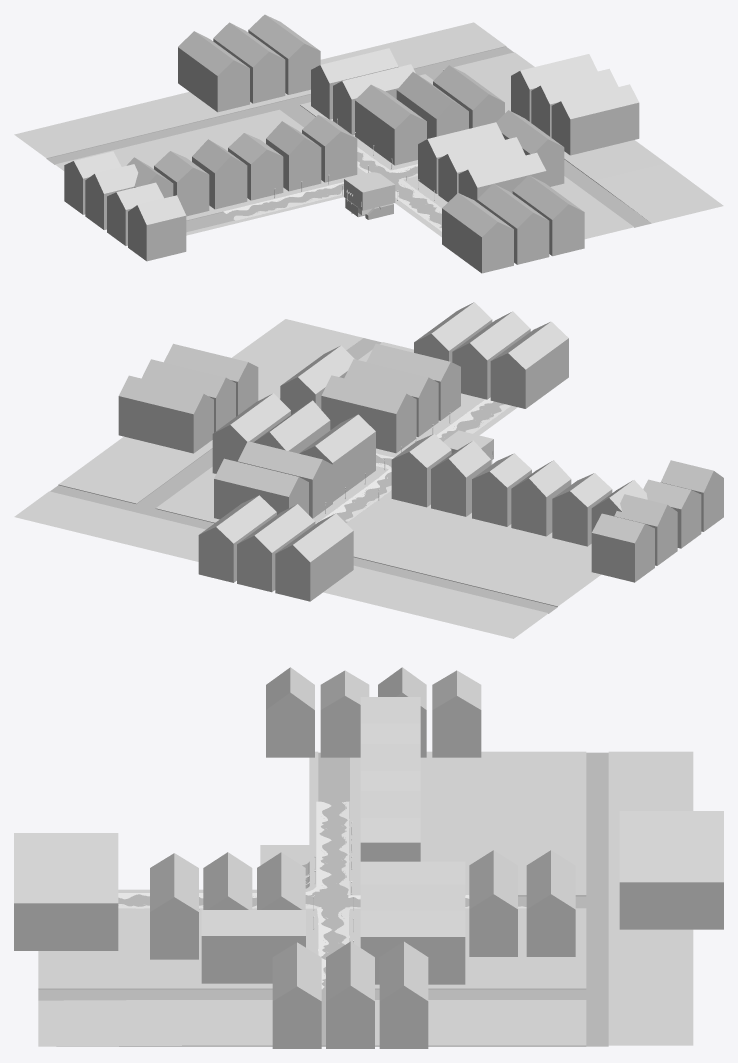
The model's file is env_Cafe.fbx.
3 views of the same model, one above another, from view 1: azimuth 30°, elevation 25°; view 2: azimuth 150°, elevation 25°; view 3: azimuth 270°, elevation 25° (orthographic). The views are drawn at different scales.
Visible parts, largest first — view 1: Plane, env_BuildingBG, env_BuildingBG.012, env_BuildingBG.027, env_BuildingBG.003, env_BuildingBG.024, env_BuildingBG.026, env_BuildingBG.013, env_BuildingBG.025, env_BuildingBG.014, env_BuildingBG.004, env_BuildingBG.002 (+20 smaller); view 2: Plane, env_BuildingBG.015, env_BuildingBG.012, env_BuildingBG.027, env_BuildingBG.006, env_BuildingBG.010, env_BuildingBG.021, env_BuildingBG.013, env_BuildingBG.003, env_BuildingBG.014, env_BuildingBG.026, env_BuildingBG.018 (+19 smaller); view 3: Plane, env_BuildingBG.025, env_BuildingBG.014, env_BuildingBG.011, env_BuildingBG.005, env_BuildingBG.015, env_BuildingBG.010, env_BuildingBG, env_BuildingBG.016, env_BuildingBG.008, env_BuildingBG.009, env_BuildingBG.024 (+19 smaller).
Boxes of the visible parts, x1,y1,x2,y2 form: Plane: [14, 22, 723, 239]; env_BuildingBG: [551, 84, 639, 155]; env_BuildingBG.012: [178, 31, 249, 112]; env_BuildingBG.027: [442, 193, 513, 273]; env_BuildingBG.003: [355, 84, 426, 165]; env_BuildingBG.024: [128, 195, 186, 261]; env_BuildingBG.026: [477, 183, 549, 264]; env_BuildingBG.013: [213, 22, 285, 103]; env_BuildingBG.025: [512, 175, 584, 256]; env_BuildingBG.014: [248, 14, 320, 94]; env_BuildingBG.004: [396, 72, 468, 138]; env_BuildingBG.002: [266, 121, 321, 191]; Plane: [14, 319, 601, 638]; env_BuildingBG.015: [118, 375, 213, 453]; env_BuildingBG.012: [275, 513, 353, 601]; env_BuildingBG.027: [490, 321, 568, 408]; env_BuildingBG.006: [321, 375, 416, 453]; env_BuildingBG.010: [214, 458, 308, 519]; env_BuildingBG.021: [591, 513, 654, 582]; env_BuildingBG.013: [237, 504, 315, 592]; env_BuildingBG.003: [299, 414, 375, 501]; env_BuildingBG.014: [198, 495, 276, 582]; env_BuildingBG.026: [452, 311, 530, 399]; env_BuildingBG.018: [511, 460, 571, 536]; Plane: [38, 751, 693, 1046]; env_BuildingBG.025: [14, 877, 118, 950]; env_BuildingBG.014: [619, 857, 723, 929]; env_BuildingBG.011: [201, 910, 305, 983]; env_BuildingBG.005: [360, 910, 465, 984]; env_BuildingBG.015: [379, 941, 428, 1048]; env_BuildingBG.010: [526, 850, 575, 956]; env_BuildingBG: [272, 942, 321, 1048]; env_BuildingBG.016: [326, 941, 374, 1048]; env_BuildingBG.008: [150, 853, 198, 959]; env_BuildingBG.009: [469, 850, 517, 956]; env_BuildingBG.024: [266, 667, 314, 757].
Bounding box in the file's own units: 167 × 20.48 × 159.
